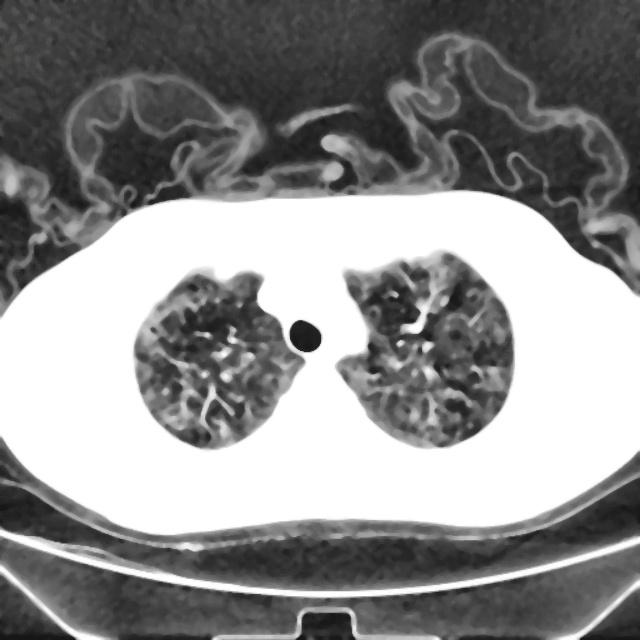covid: (334, 248, 514, 449), (132, 267, 306, 449)
